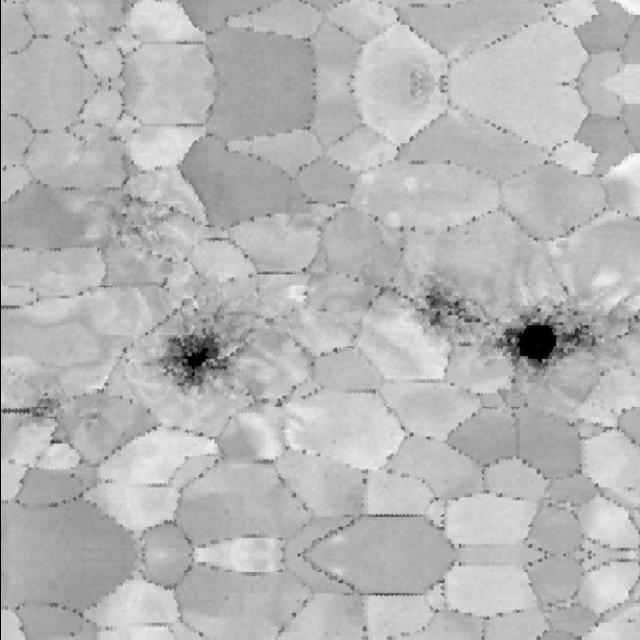good_void: (480, 291, 583, 372), (146, 313, 230, 400), (105, 193, 181, 253), (26, 386, 79, 457), (418, 284, 474, 332)
